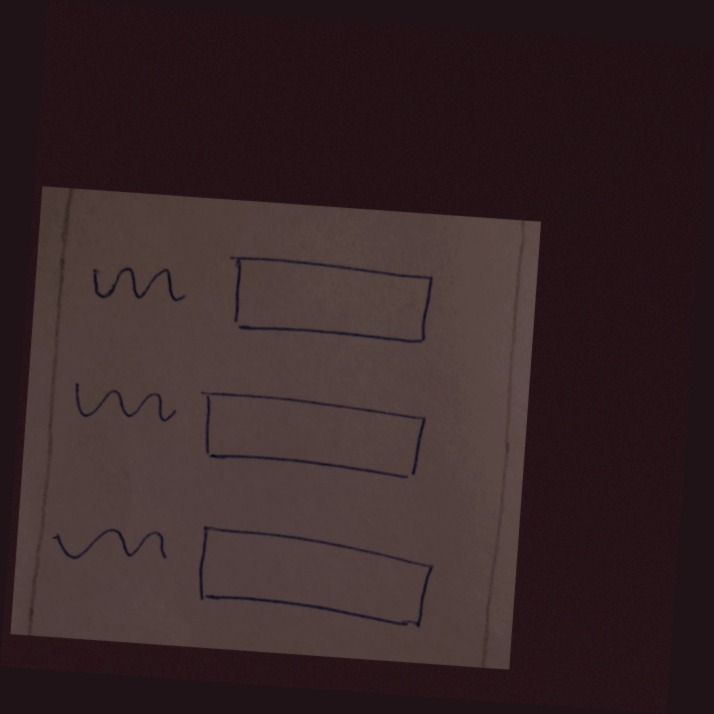text: (64, 370, 187, 434), (46, 516, 172, 575), (85, 253, 188, 315)
text_input: (192, 523, 441, 632), (219, 247, 439, 351), (192, 388, 429, 484)
